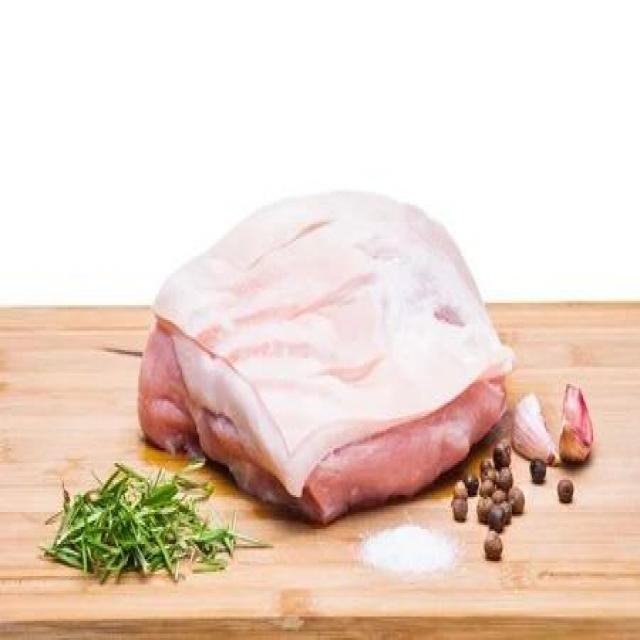Pork: (151, 191, 509, 440), (149, 422, 153, 447)
